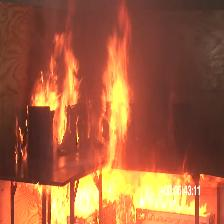fire: (49, 180, 196, 215), (31, 33, 83, 118), (105, 22, 131, 152)
